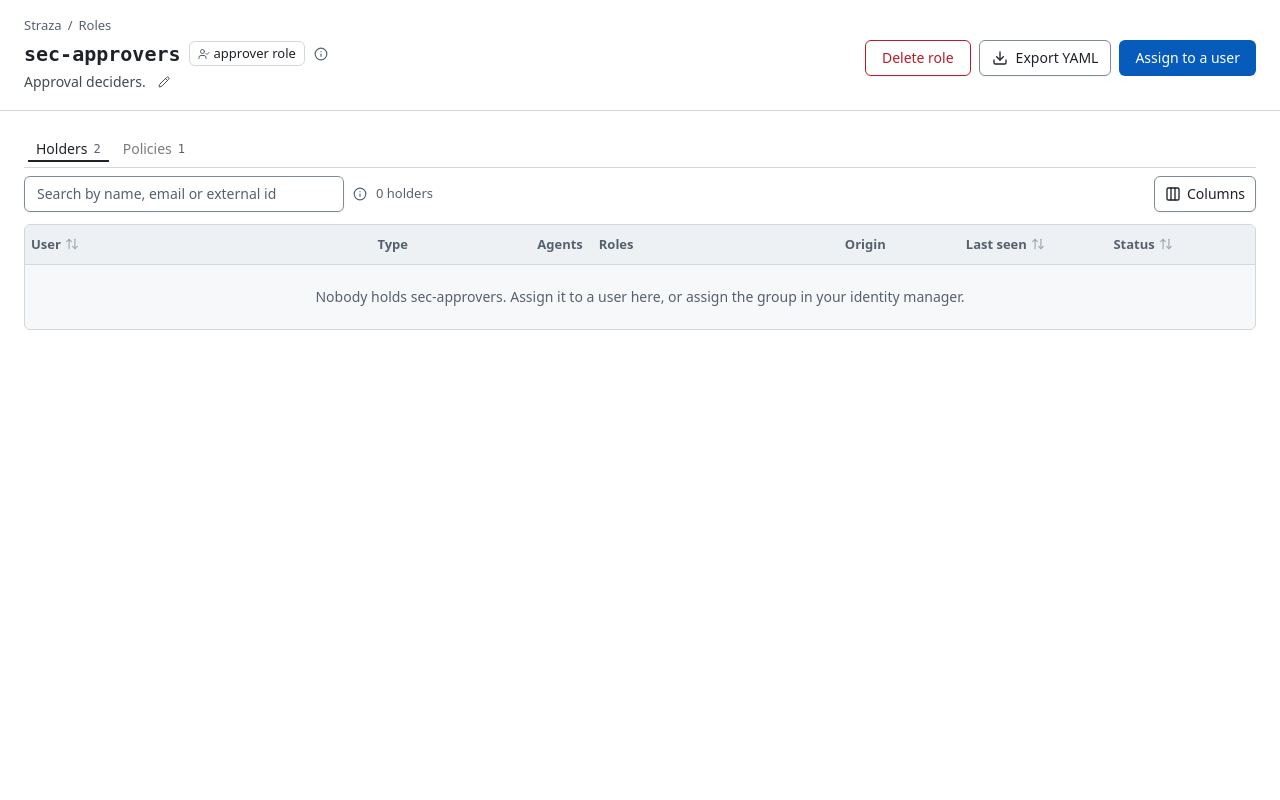
a role's page › keeps the delete dialog open on a refusal and quotes the server
Expected: the heading "sec-approvers" is shown, [24,40,180,68]
Click the button "Delete role" at (918, 58), box [865,40,971,76]
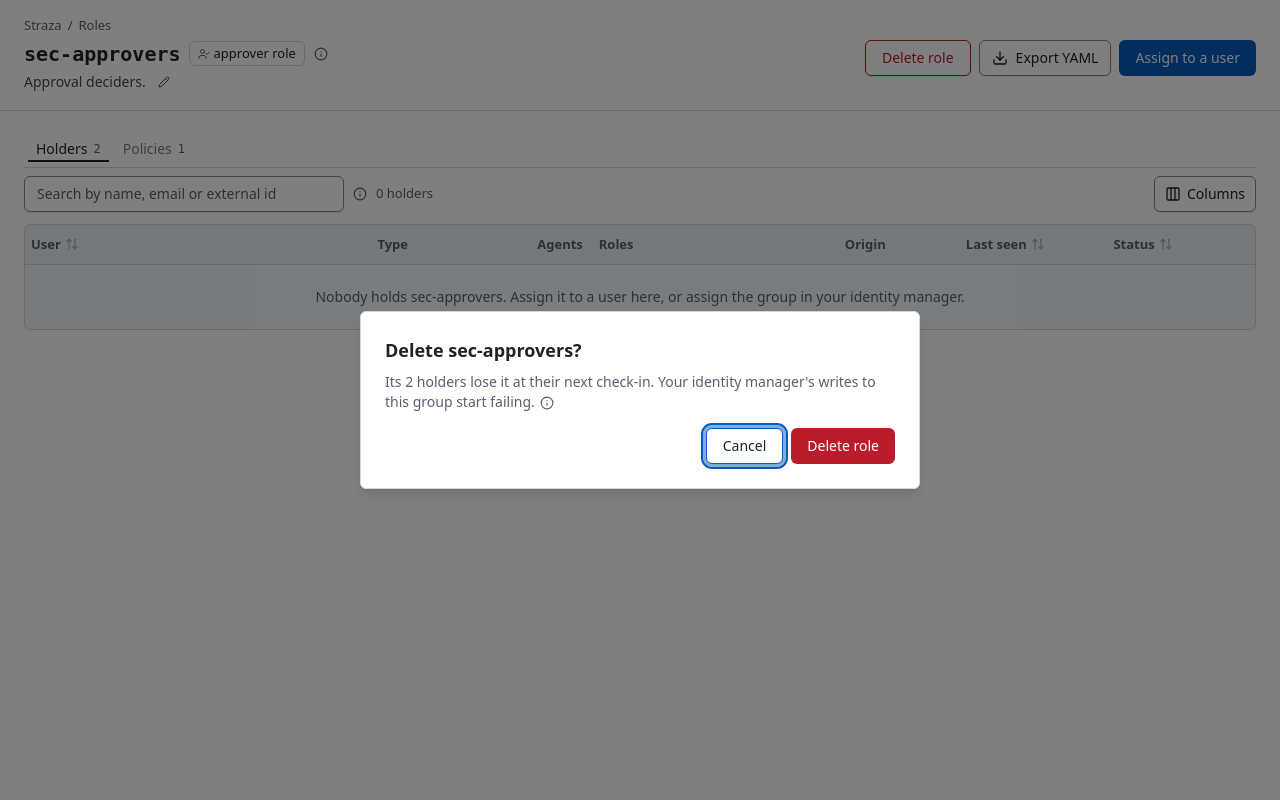
Click the button "Delete role" at (843, 446), box [791,428,895,464]
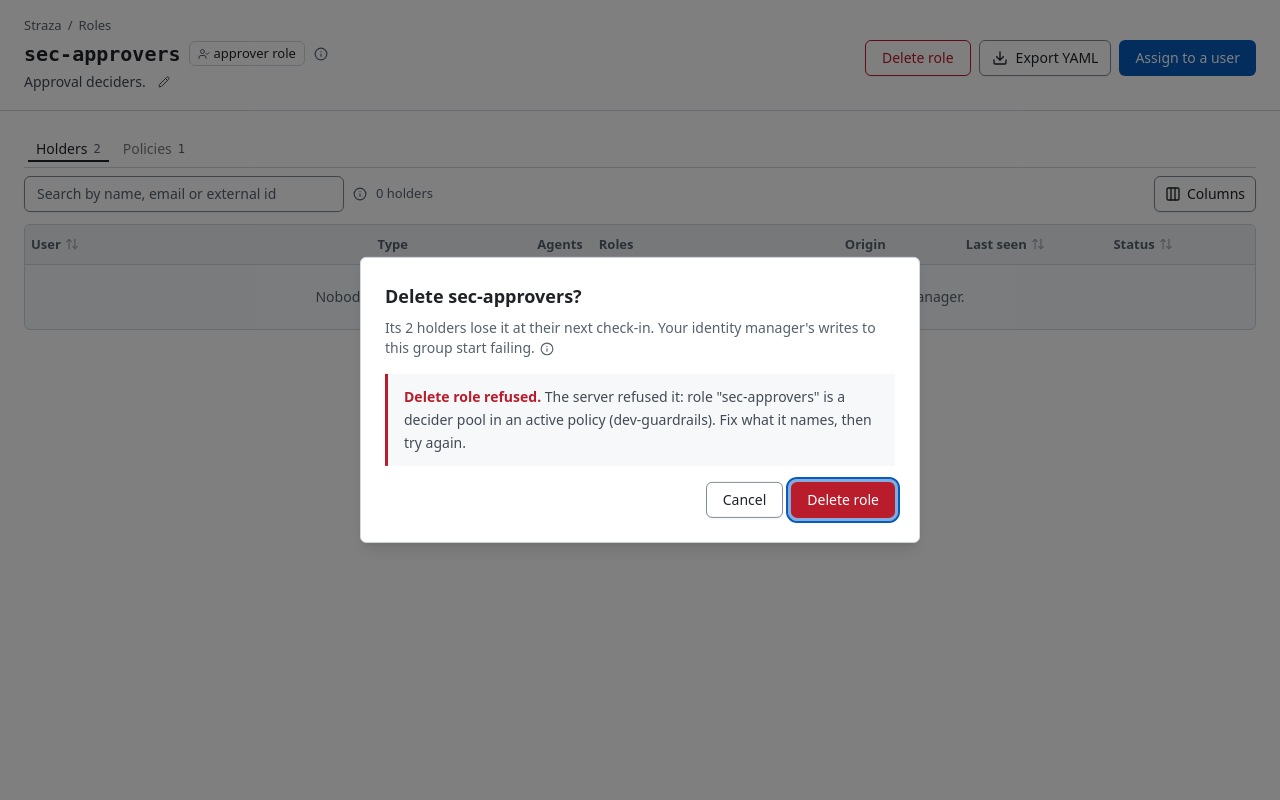
Now the dialog is shown, box [360,257,920,543]
Now the text "decider pool in an active policy" shows "role \"sec-approvers\" is a decider pool in an active policy (dev-guardrails)", box [404,387,872,451]
